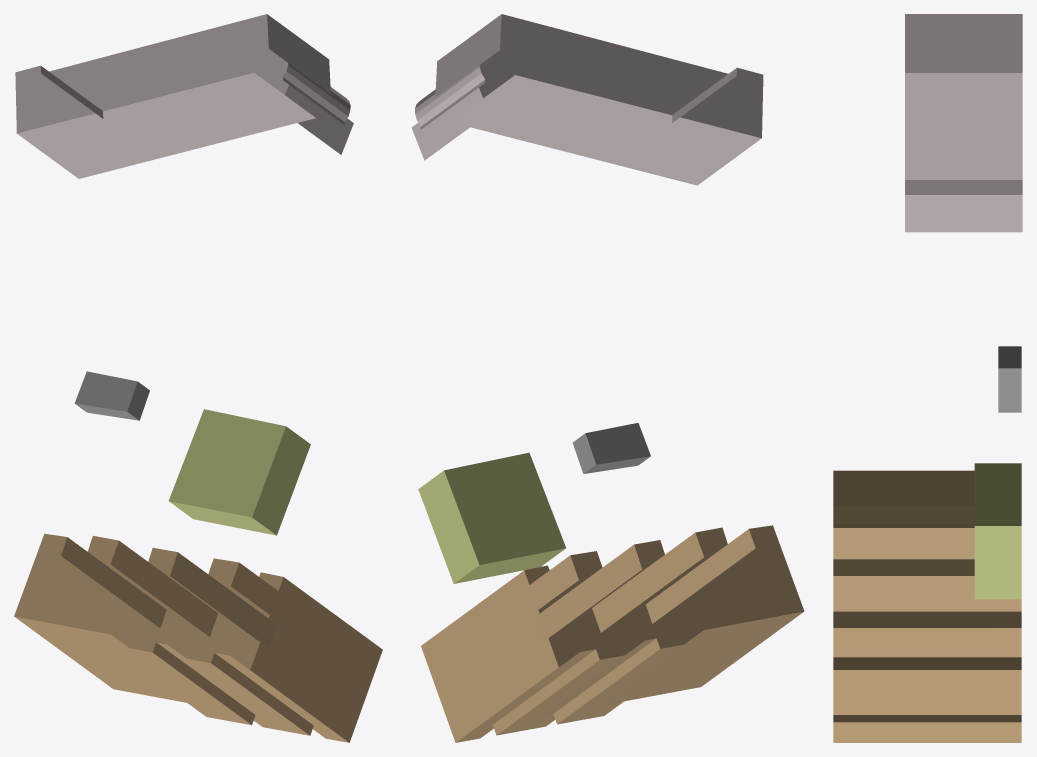
3 renders of one model, left to right at view 1: azimuth 30°, elevation 25°; view 2: azimuth 150°, elevation 25°; view 3: azimuth 270°, elevation 25°, orthographic. The views are drawn at different scales.
Visible parts, largest first — view 1: 0_0_3_1_3_2_0_1; view 2: 0_0_3_1_3_2_0_1; view 3: 0_0_3_1_3_2_0_1.
Part boxes in pixels (x1=…): 0_0_3_1_3_2_0_1: x1=14, y1=14, x2=382, y2=742; 0_0_3_1_3_2_0_1: x1=411, y1=14, x2=804, y2=742; 0_0_3_1_3_2_0_1: x1=833, y1=14, x2=1022, y2=742.
Size of the model in its own units: 38.8 by 87.33 by 24.1.
